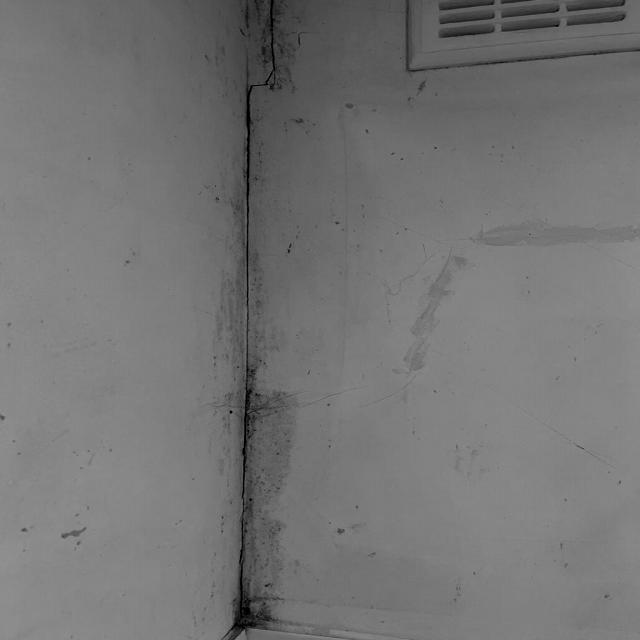stain marks: (331, 178, 640, 392), (185, 0, 431, 145), (524, 399, 640, 640), (310, 493, 484, 618), (0, 406, 123, 571), (226, 383, 304, 640), (215, 148, 296, 388), (427, 419, 507, 494), (109, 230, 149, 275)
